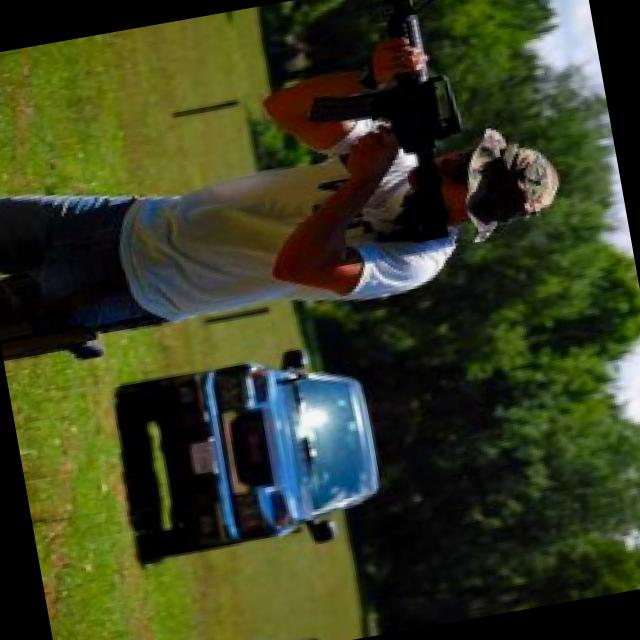long weapon: (274, 0, 478, 185)
